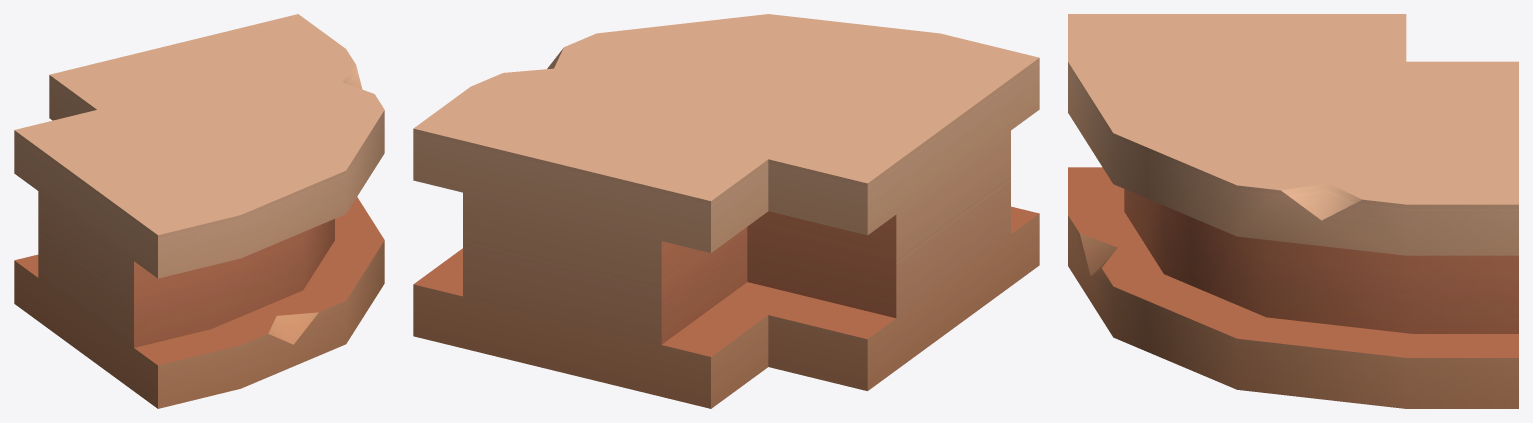
The model's file is border-corner.glb.
3 renders of one model, left to right at view 1: azimuth 30°, elevation 25°; view 2: azimuth 150°, elevation 25°; view 3: azimuth 270°, elevation 25°, orthographic. The views are drawn at different scales.
Visible parts, largest first — view 1: border-corner; view 2: border-corner; view 3: border-corner.
Boxes of the visible parts, x1=… form: border-corner: x1=14, y1=14, x2=384, y2=408; border-corner: x1=413, y1=14, x2=1039, y2=408; border-corner: x1=1068, y1=14, x2=1518, y2=408.
Size of the model in its own units: 0.8 by 0.4001 by 0.8.
Materials: 1 (1 with a texture image).
